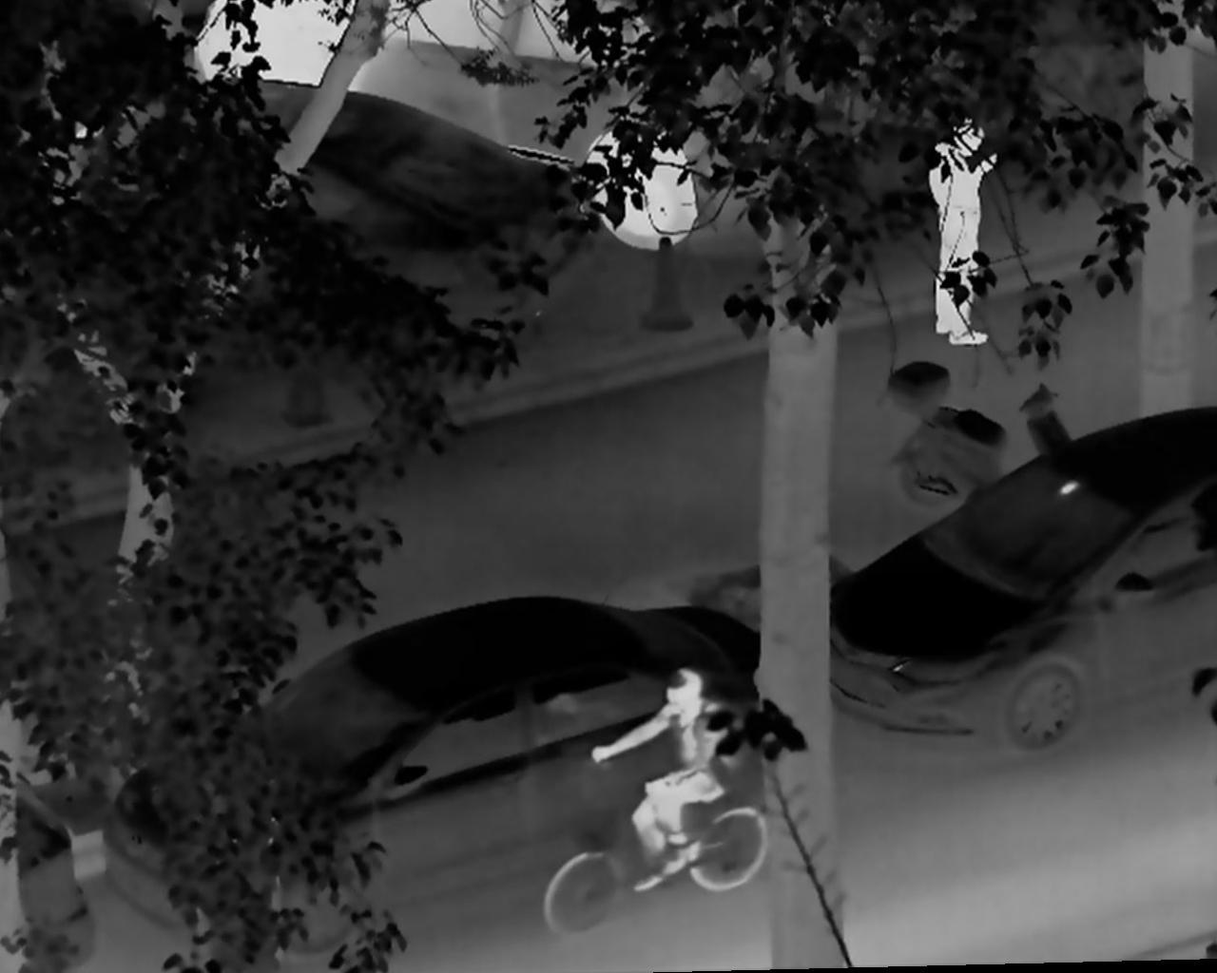person: (583, 657, 738, 891), (916, 115, 999, 350)
